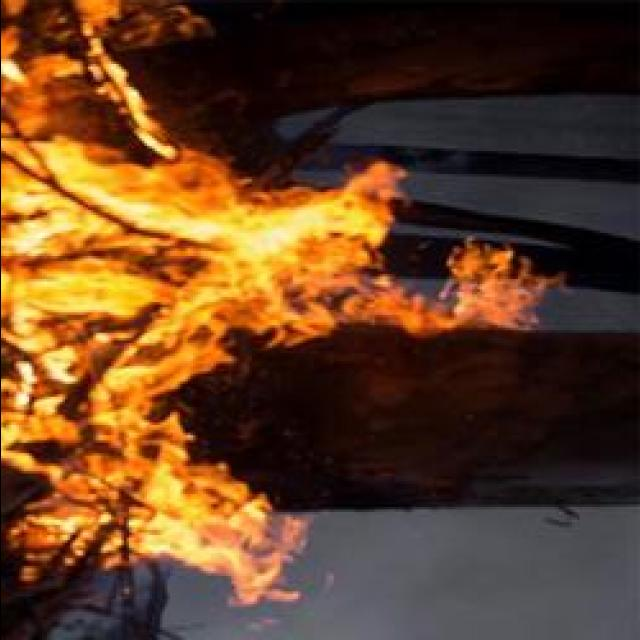fire: (177, 192, 385, 314), (114, 450, 260, 577), (0, 156, 172, 254), (2, 259, 149, 317)
